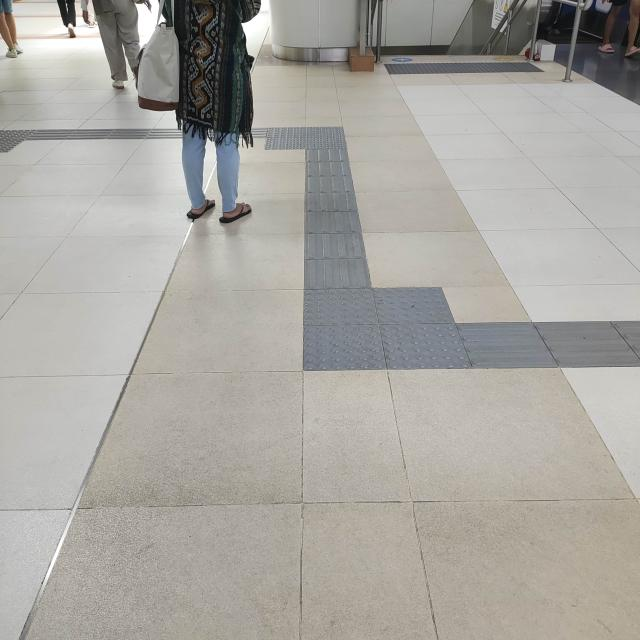kiri: (241, 113, 375, 170)
